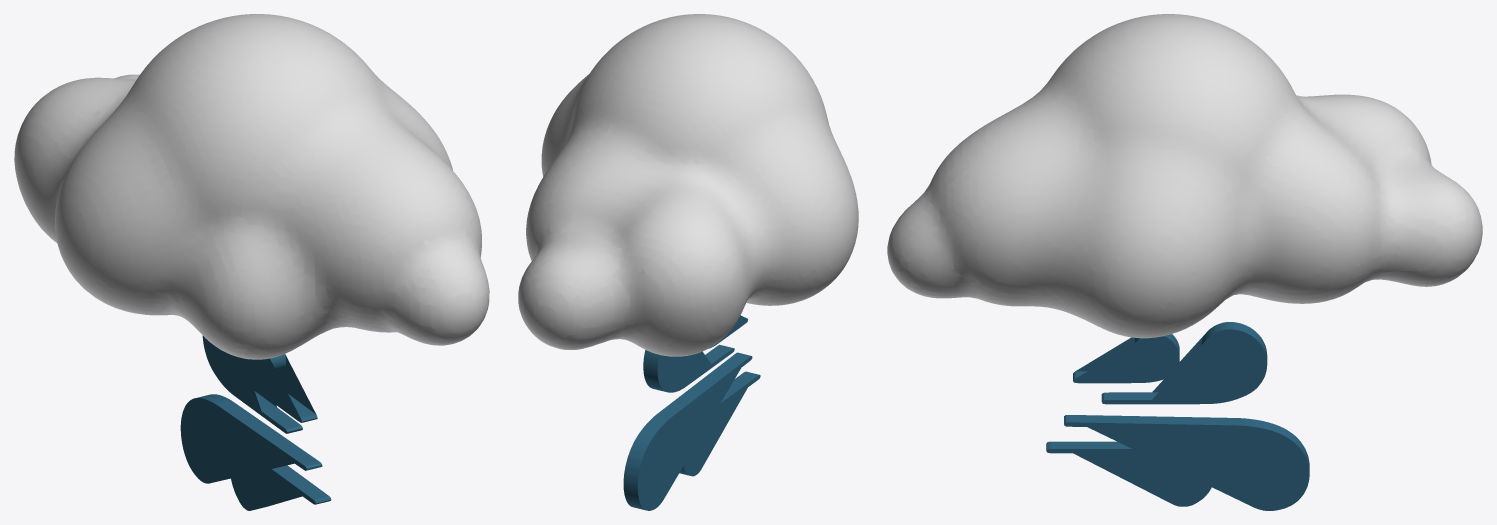
File: mrakVitr.fbx
3 renders of one model, left to right at view 1: azimuth 30°, elevation 25°; view 2: azimuth 150°, elevation 25°; view 3: azimuth 270°, elevation 25°, orthographic. The views are drawn at different scales.
Parts seen in each view (by area): view 1: Mball.004, Trace.002; view 2: Mball.004, Trace.002; view 3: Mball.004, Trace.002.
Part boxes in pixels (x1,y1,x2,y2): Mball.004: (14,14,489,359); Trace.002: (180,335,331,510); Mball.004: (518,14,858,356); Trace.002: (623,315,760,510); Mball.004: (887,14,1482,338); Trace.002: (1046,322,1309,510).
Bounding box in the file's own units: 264 × 353 × 399.
